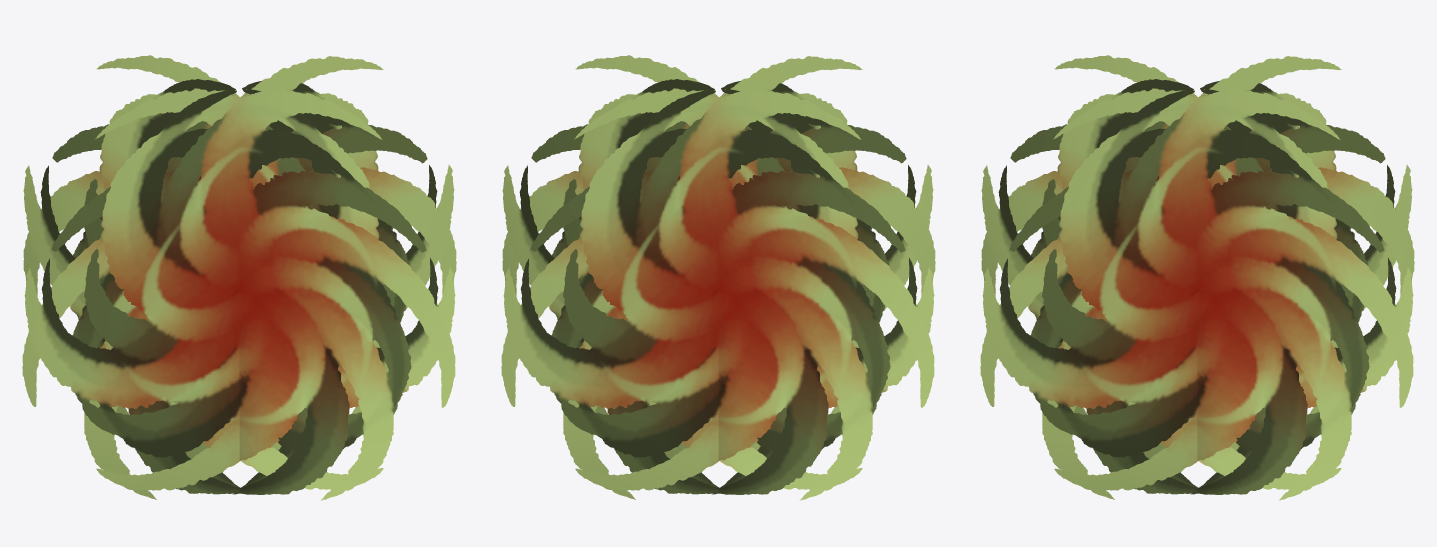
The model's file is painted-weed-063.glb.
3 views of the same model, side by side, from view 1: azimuth 30°, elevation 25°; view 2: azimuth 150°, elevation 25°; view 3: azimuth 270°, elevation 25° (orthographic).
Size of the model in its own units: 7.5 by 7.1 by 6.51.
1 material, 1 textured.
